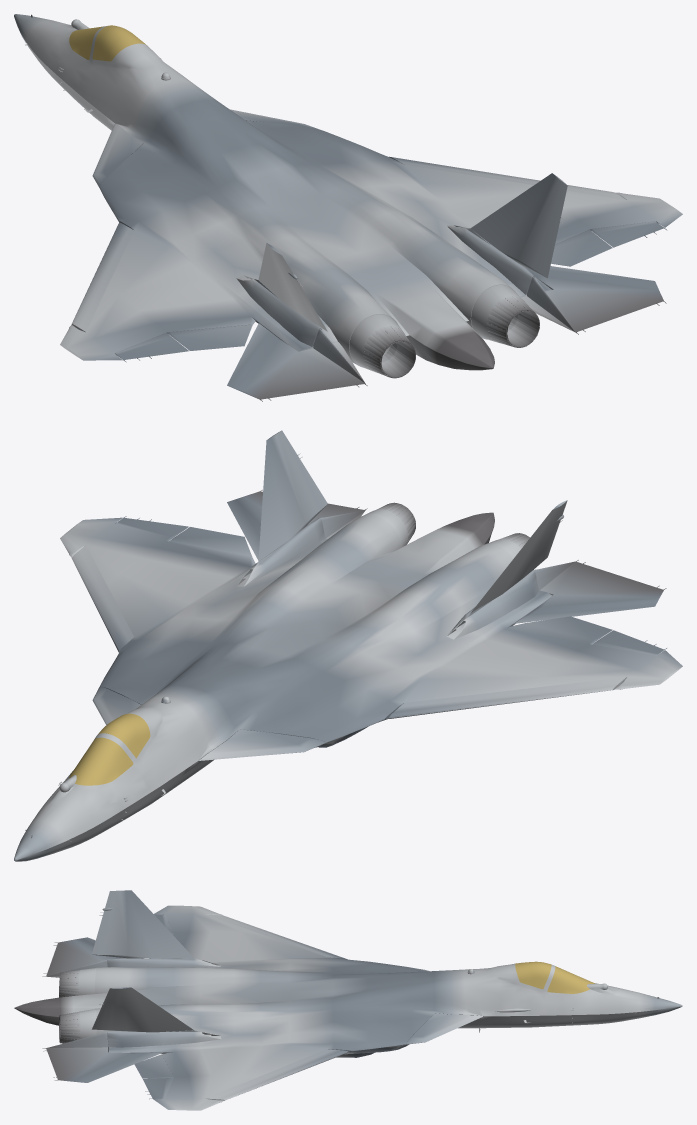
3 renders of one model, top to bottom at view 1: azimuth 30°, elevation 25°; view 2: azimuth 150°, elevation 25°; view 3: azimuth 270°, elevation 25°, orthographic. The views are drawn at different scales.
Visible parts, largest first — view 1: Object01, Object11; view 2: Object01, Object11; view 3: Object01, Object11.
Boxes of the visible parts, bbox=[...] form: Object01: bbox=[14, 14, 682, 401]; Object11: bbox=[69, 25, 145, 61]; Object01: bbox=[14, 430, 682, 861]; Object11: bbox=[69, 713, 150, 785]; Object01: bbox=[14, 890, 682, 1110]; Object11: bbox=[515, 961, 594, 993].
Bounding box in the file's own units: 14.54 × 3.18 × 20.1.
